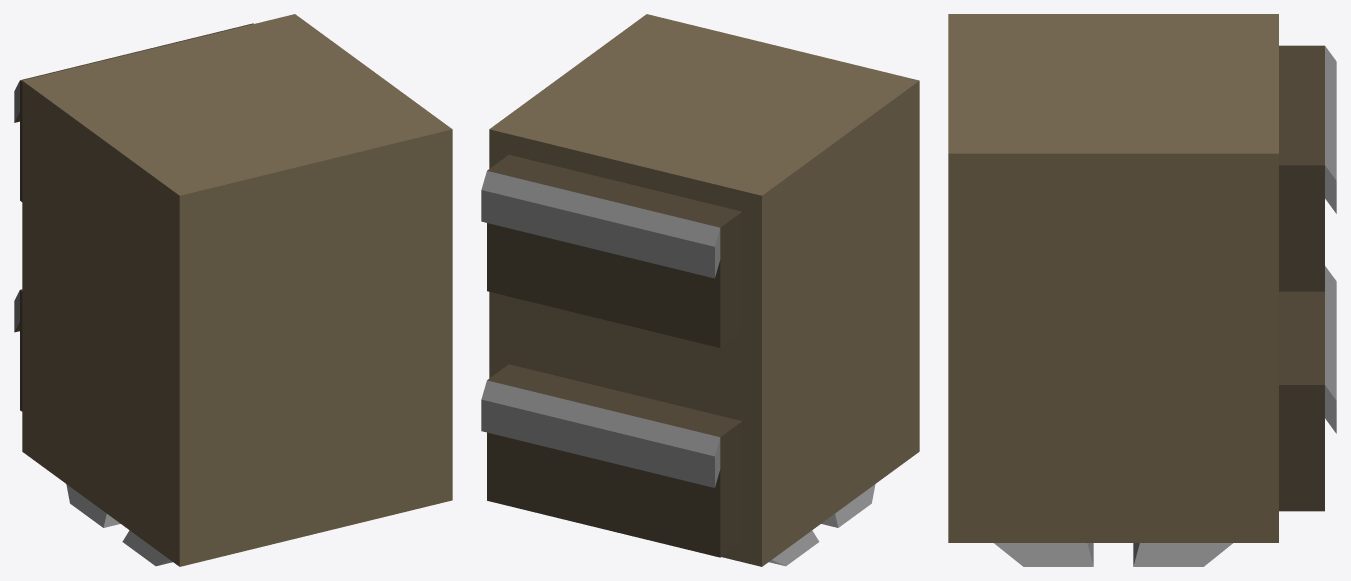
Rendered from velador.fbx.
3 views of the same model, side by side, from view 1: azimuth 30°, elevation 25°; view 2: azimuth 150°, elevation 25°; view 3: azimuth 270°, elevation 25° (orthographic). The views are drawn at different scales.
Visible parts, largest first — view 1: velador; view 2: velador; view 3: velador.
Part boxes in pixels (box(x1,y1,x2,y2)): velador: box(14, 14, 452, 566); velador: box(481, 14, 919, 566); velador: box(948, 14, 1336, 566).
Size of the model in its own units: 1 by 1.17 by 1.4.
